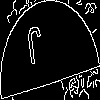J: (25, 24, 46, 76)
